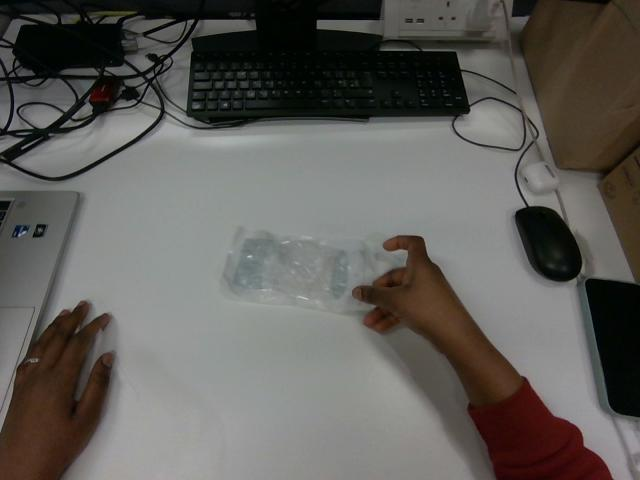gallipot: (223, 229, 405, 312)
